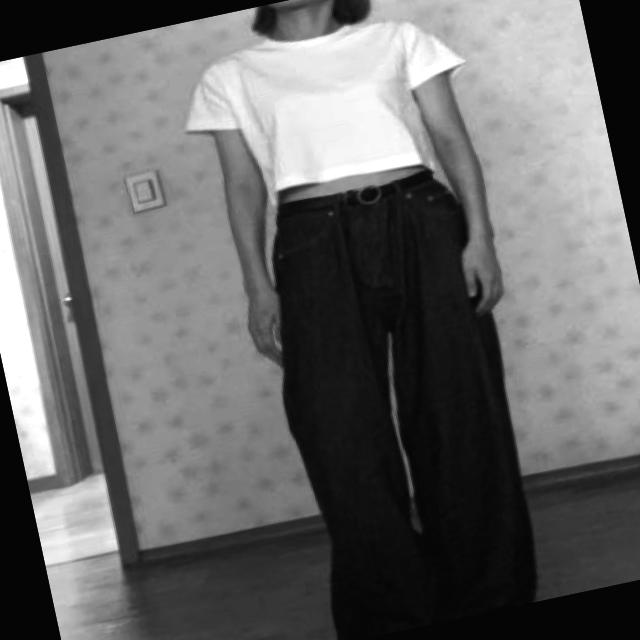denimpants: (242, 154, 550, 640)
shortsleeve: (171, 0, 482, 210)
